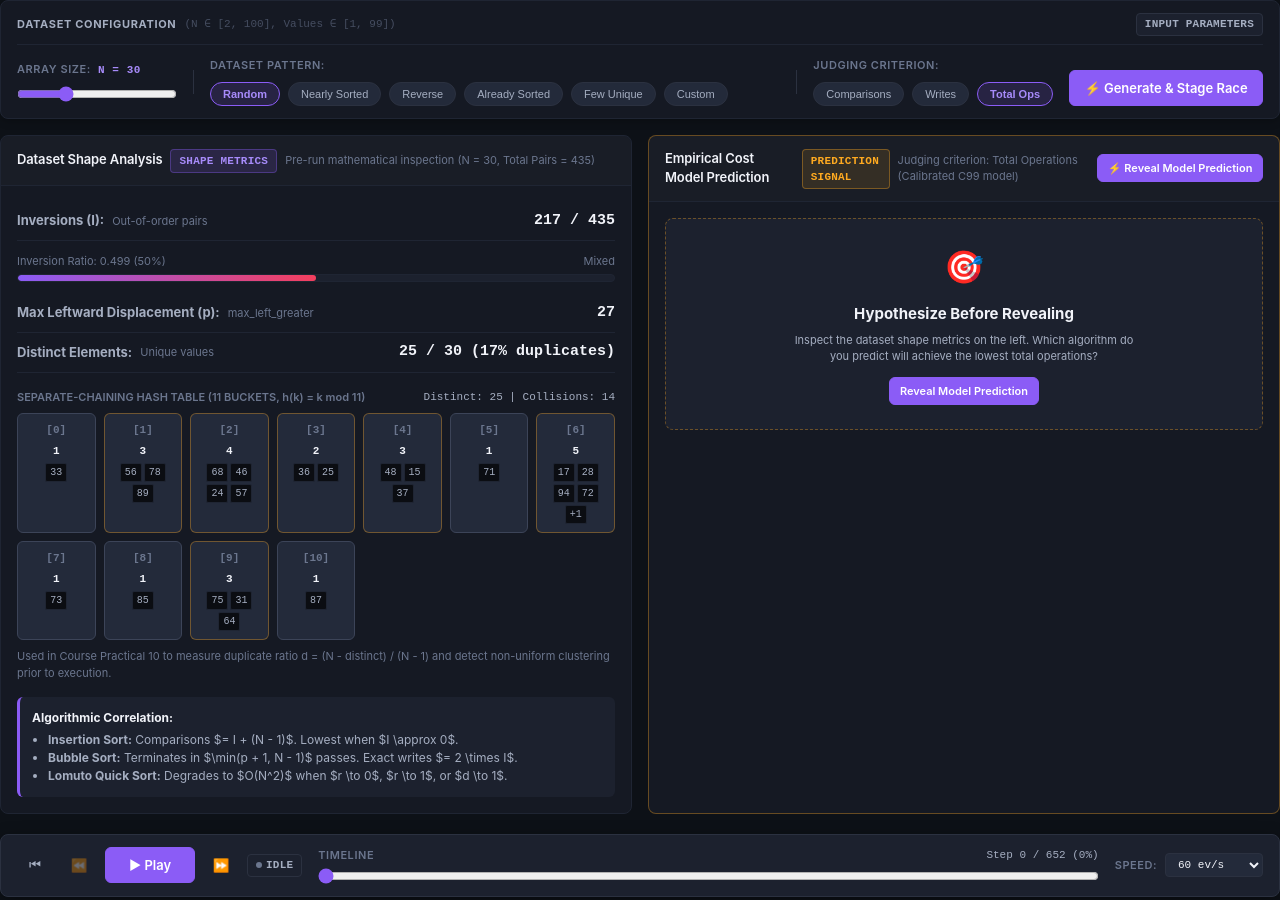
Scenario: SortingArena — Full 5-Lane Orchestration Component › supports timeline scrub seeking
// Seek to step 10
Set the slider named "shared race timeline position" to "10" at {"x": 338, "y": 876}, box [318,868,1099,884]
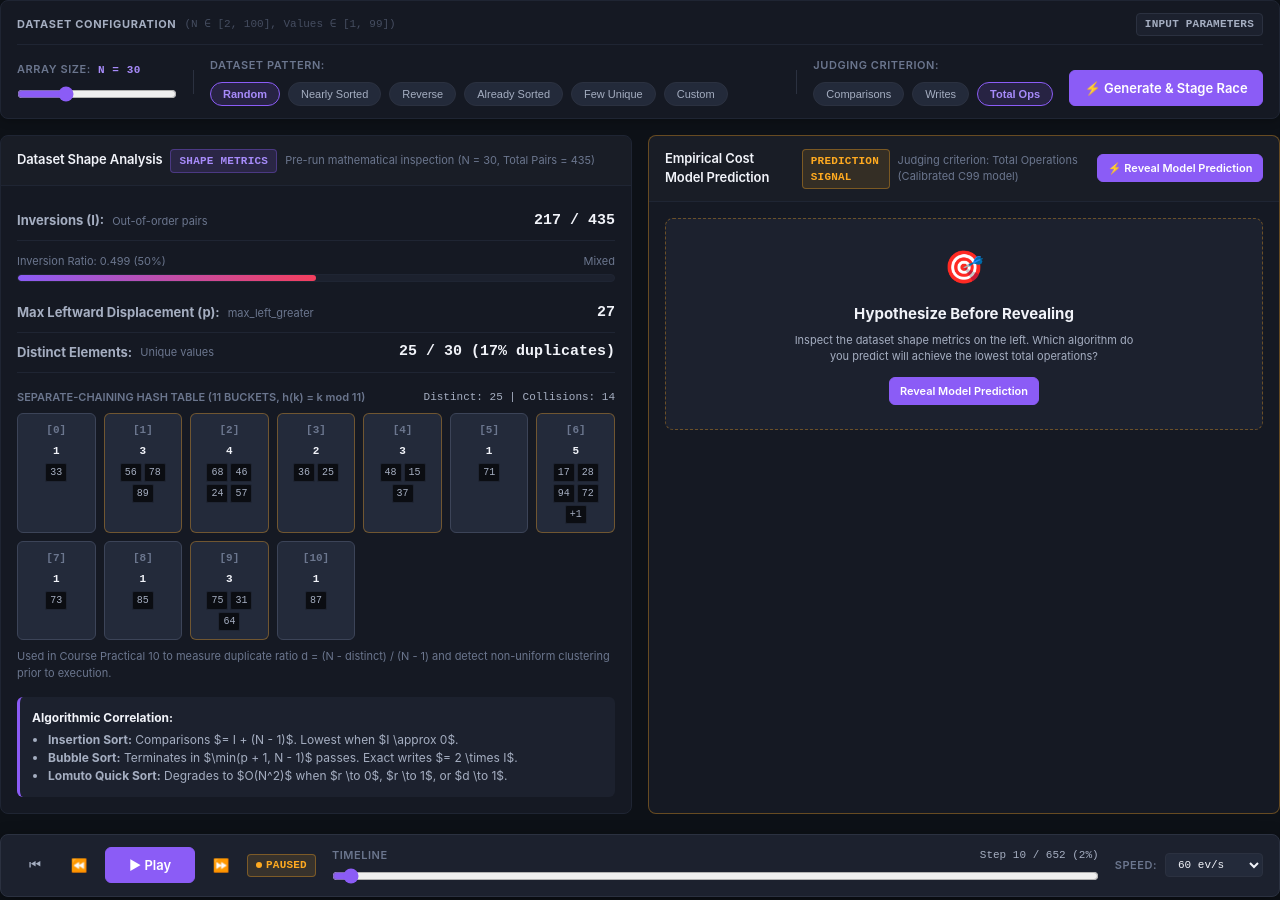
Expected: the text "Step 10 / 652 (2%)" is shown, [980,847,1099,864]
